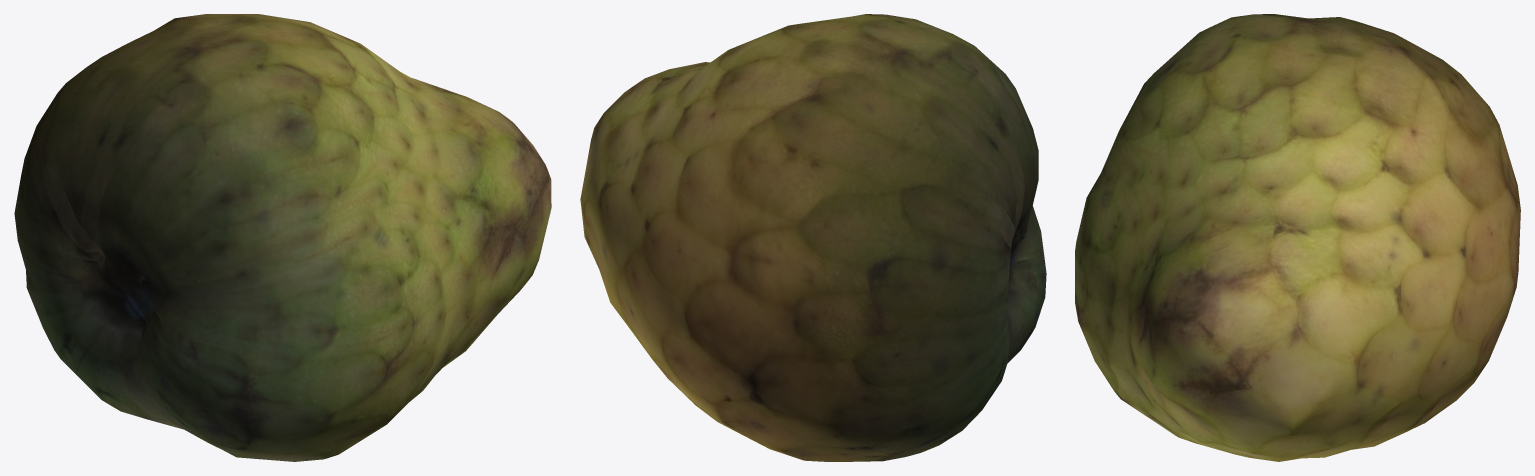
3 renders of one model, left to right at view 1: azimuth 30°, elevation 25°; view 2: azimuth 150°, elevation 25°; view 3: azimuth 270°, elevation 25°, orthographic.
Parts seen in each view (by area): view 1: 06_custard_apple; view 2: 06_custard_apple; view 3: 06_custard_apple.
Part boxes in pixels (bbox=[...]): 06_custard_apple: bbox=[14, 14, 551, 461]; 06_custard_apple: bbox=[580, 14, 1046, 461]; 06_custard_apple: bbox=[1075, 14, 1520, 461].
Size of the model in its own units: 1.02 by 0.8627 by 0.8859.
Materials: 1 (1 with a texture image).
